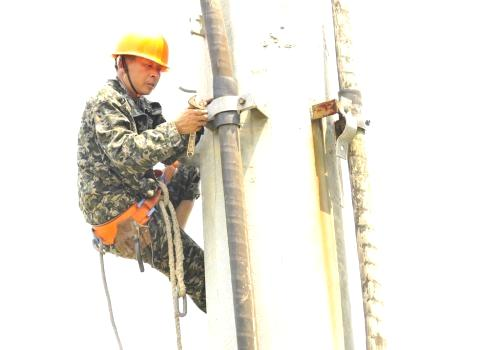helmet: (112, 29, 174, 96)
not_reflective: (70, 85, 166, 217)
